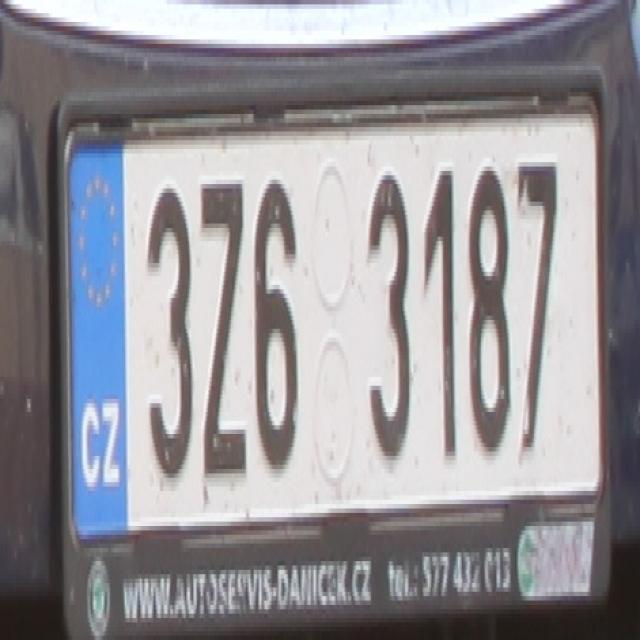1: (421, 158, 458, 469)
3: (364, 166, 412, 464), (144, 180, 192, 473)
6: (254, 180, 299, 478)
7: (518, 149, 558, 456)
8: (469, 166, 511, 452)
Z: (198, 175, 248, 482)
